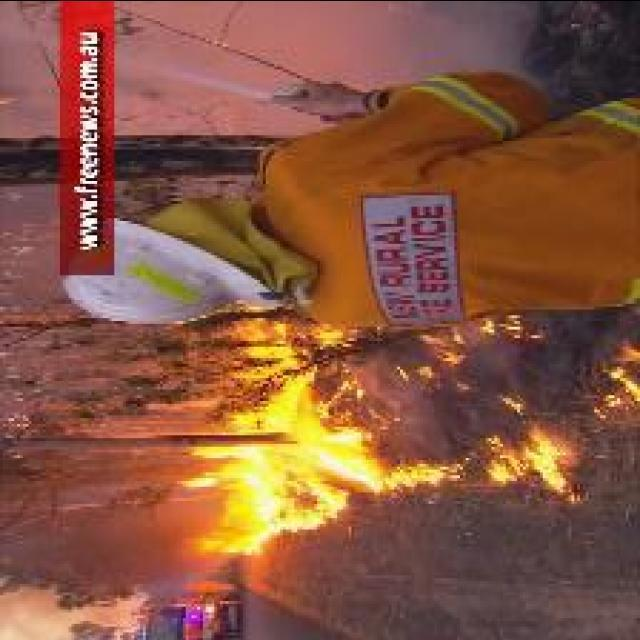Fire: (184, 323, 467, 551), (481, 424, 593, 504), (592, 338, 640, 418)
